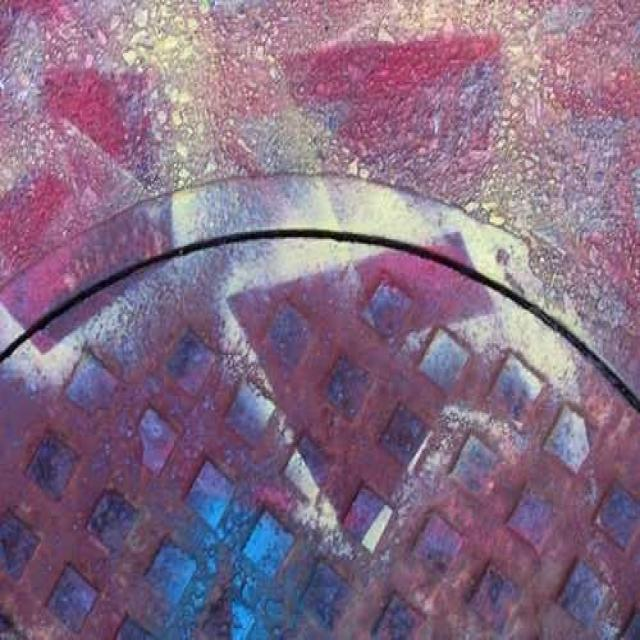manhole: (0, 175, 640, 637)
